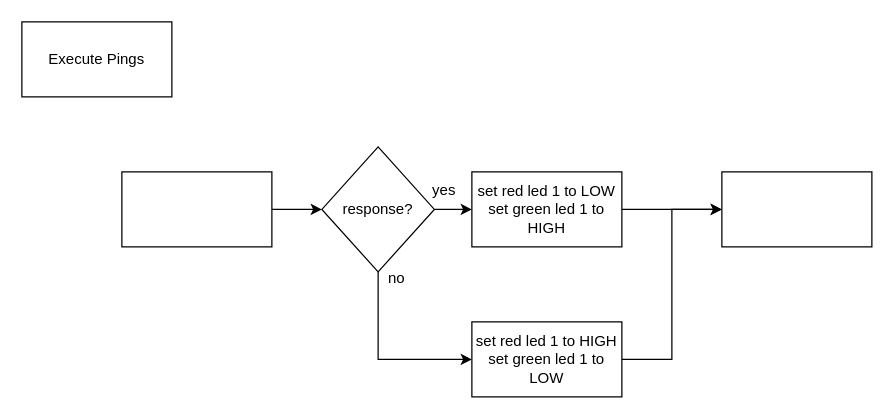
Some shapes in this 894 by 419 pixel diagram are drawn without their labels. The shapes that lost their labels are listed below. From the top down, each one's centre as x and y in pixels, then its label:
the point at 196,209: Ping Target 1
the point at 796,209: Repeat for next Target
